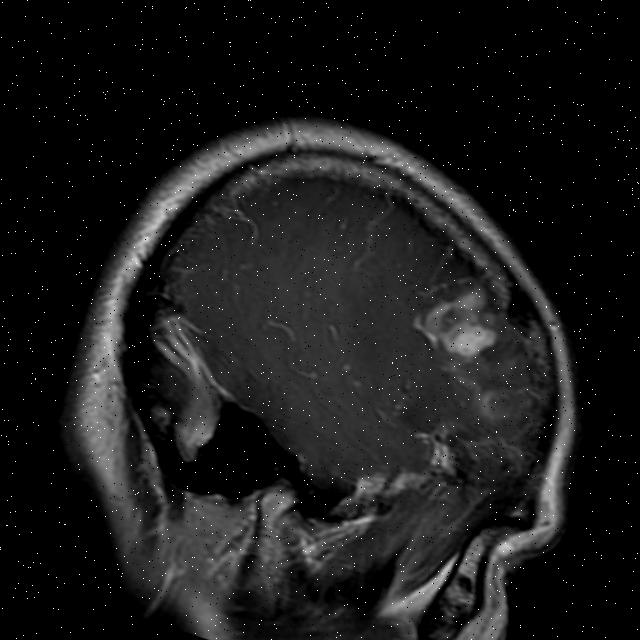Glioma: (405, 266, 513, 368)
